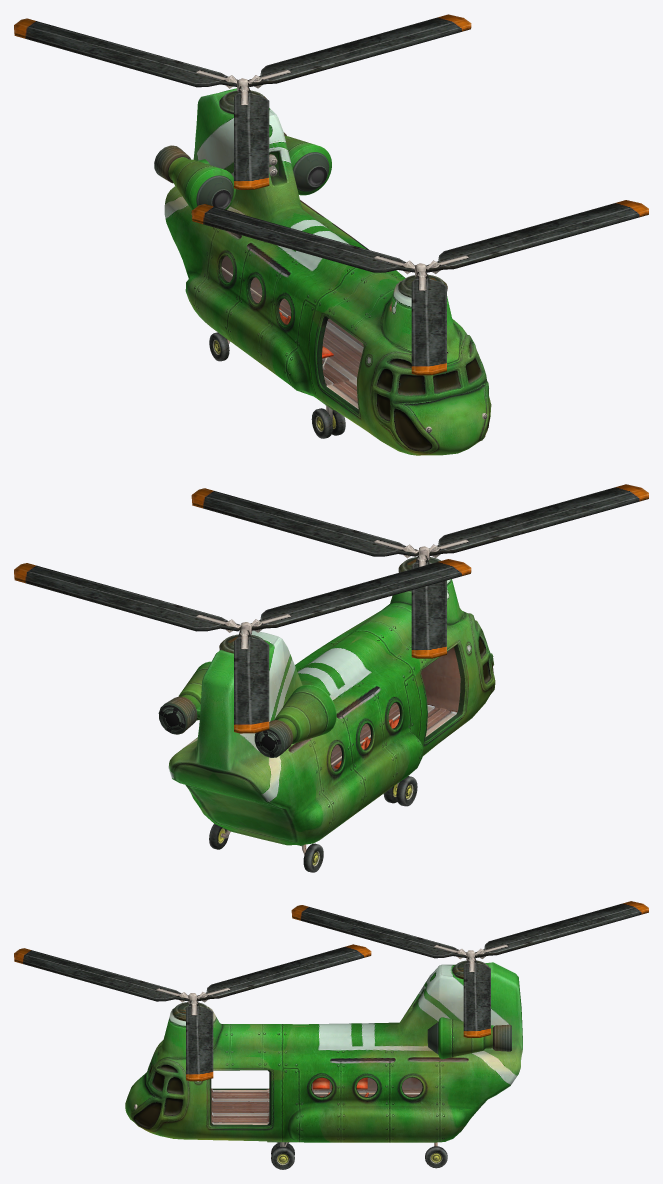
File: helicopter.fbx
3 renders of one model, top to bottom at view 1: azimuth 30°, elevation 25°; view 2: azimuth 150°, elevation 25°; view 3: azimuth 270°, elevation 25°, orthographic. The views are drawn at different scales.
Visible parts, largest first — view 1: node_id36; view 2: node_id36; view 3: node_id36.
Boxes of the visible parts, left/top/right/bottom form: node_id36: left=14, top=14, right=648, bottom=455; node_id36: left=14, top=484, right=648, bottom=872; node_id36: left=14, top=901, right=648, bottom=1169.
Size of the model in its own units: 0.512 by 0.3646 by 1.02.
1 material, 1 textured.
